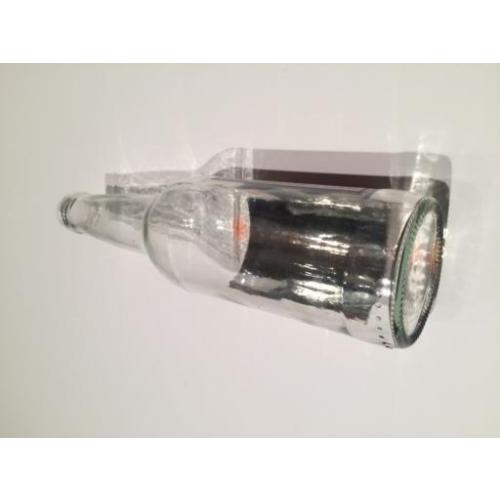glass: (60, 185, 439, 347)
